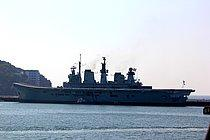MIL_Ship: (12, 52, 196, 108)
